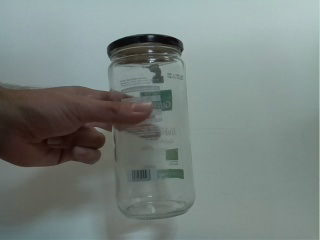pote cristal: (104, 31, 200, 220)
